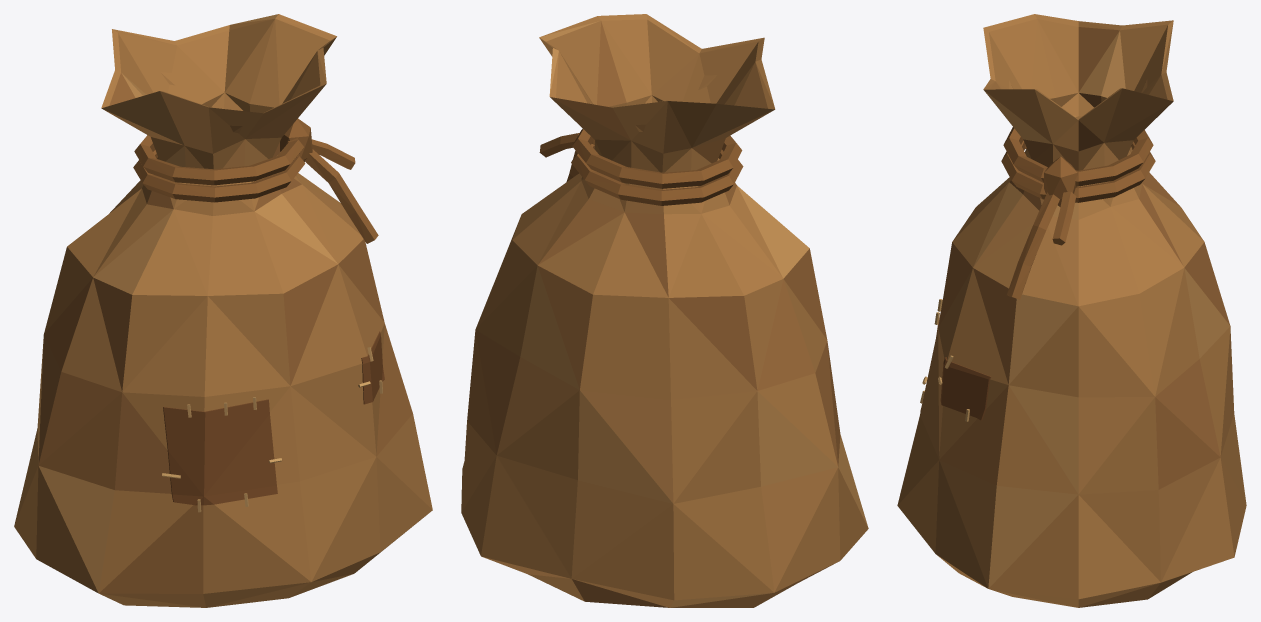
Rendered from Burlap Sack.glb.
3 renders of one model, left to right at view 1: azimuth 30°, elevation 25°; view 2: azimuth 150°, elevation 25°; view 3: azimuth 270°, elevation 25°, orthographic.
Visible parts, largest first — view 1: Burlap Sack; view 2: Burlap Sack; view 3: Burlap Sack.
Boxes of the visible parts, x1=… form: Burlap Sack: x1=14, y1=14, x2=432, y2=607; Burlap Sack: x1=461, y1=14, x2=868, y2=607; Burlap Sack: x1=897, y1=14, x2=1246, y2=607.
Bounding box in the file's own units: 0.6051 × 0.7612 × 0.4928.
